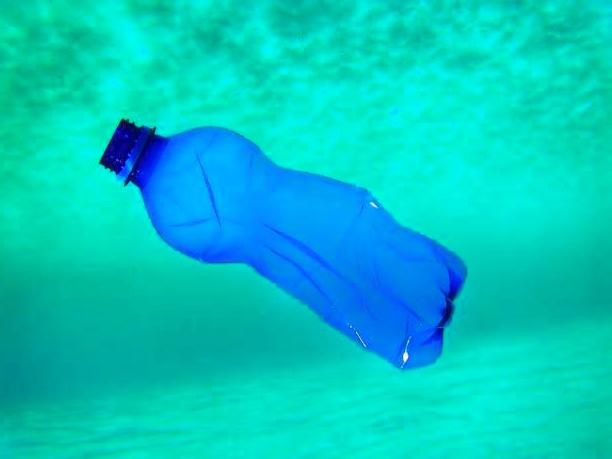Plastic: (96, 114, 456, 369)
